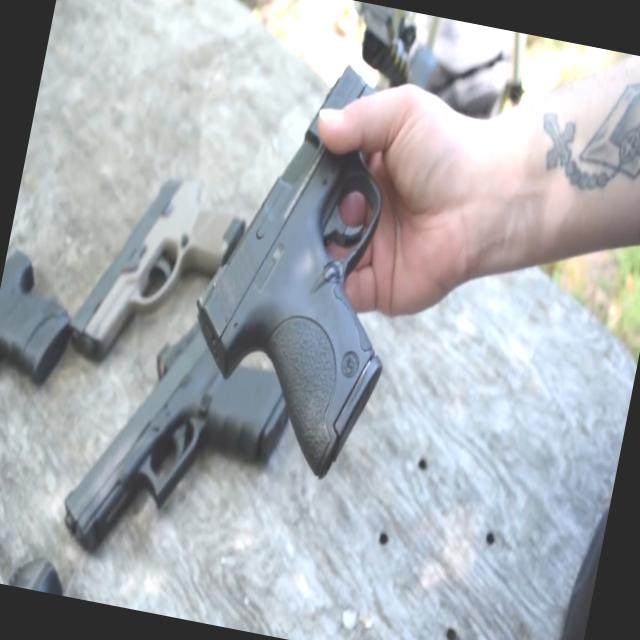handgun: (162, 40, 448, 474), (40, 304, 318, 585), (56, 130, 264, 399)
